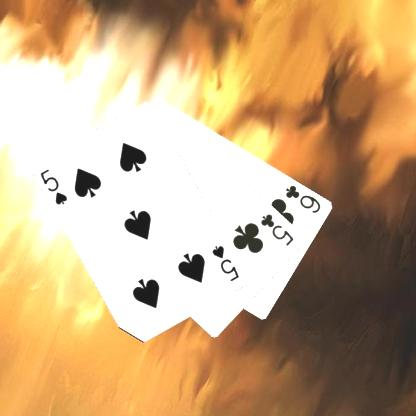5C: (258, 210, 296, 248)
5S: (209, 242, 241, 283), (38, 166, 69, 207)
6C: (282, 182, 323, 215)
